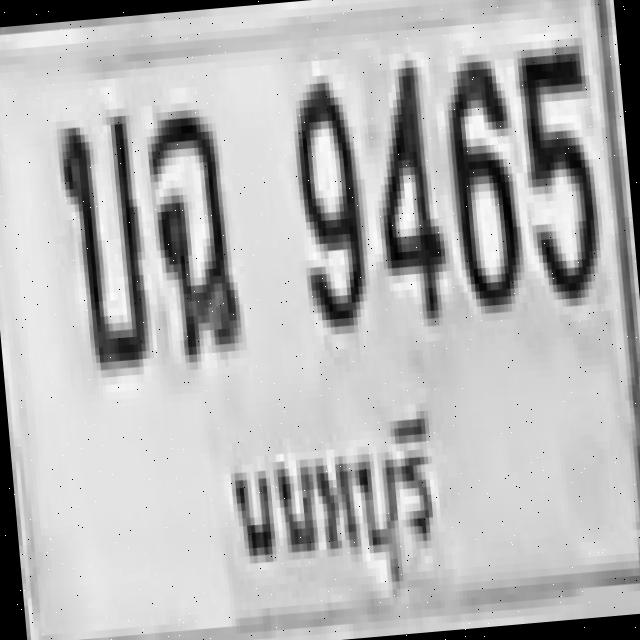18ChorChing: (140, 100, 239, 356)
35BorBaiMai: (51, 108, 150, 364)
4: (365, 51, 446, 322)
5: (512, 38, 600, 302)
6: (439, 48, 519, 312)
9: (285, 73, 365, 329)
Nonthaburi: (208, 400, 456, 623)
